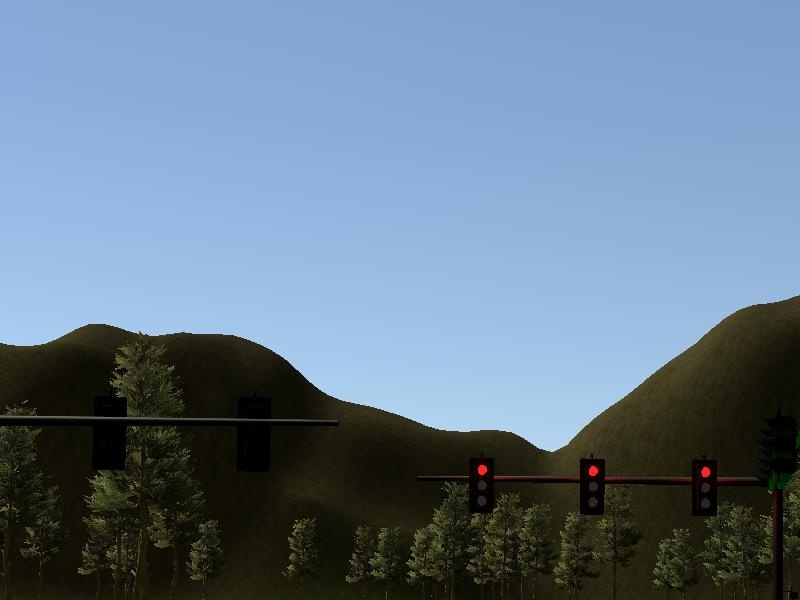Red: (577, 456, 606, 518), (467, 455, 496, 516), (690, 457, 719, 518)
